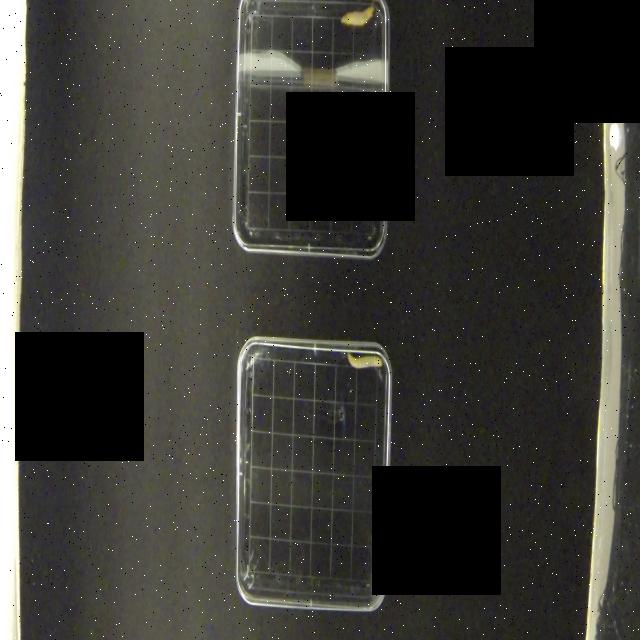larva: (340, 4, 375, 28)
